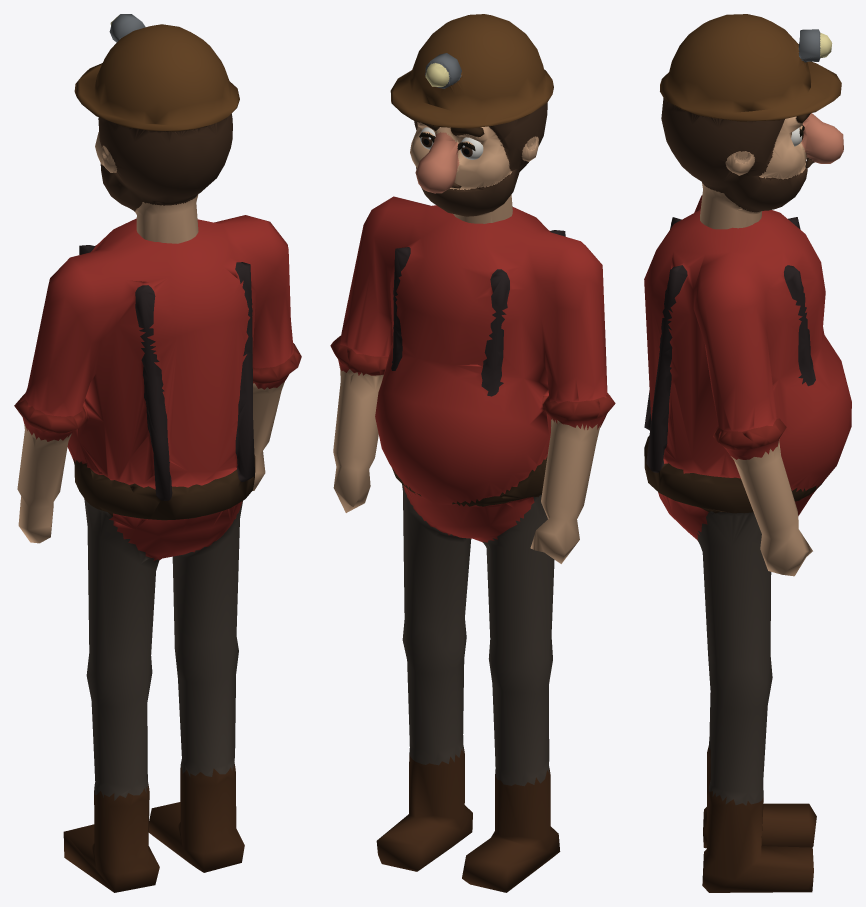
File: morten.glb
3 views of the same model, side by side, from view 1: azimuth 30°, elevation 25°; view 2: azimuth 150°, elevation 25°; view 3: azimuth 270°, elevation 25° (orthographic).
Parts seen in each view (by area): view 1: body_lod0, head_lod0; view 2: body_lod0, head_lod0; view 3: body_lod0, head_lod0.
Boxes of the visible parts, x1,y1,x2,y2 form: body_lod0: (14, 215, 301, 892); head_lod0: (74, 14, 239, 243); body_lod0: (330, 196, 615, 892); head_lod0: (390, 14, 553, 223); body_lod0: (644, 195, 851, 892); head_lod0: (660, 14, 843, 229).
Size of what is drawn, in the model's own units: 0.6703 by 1.96 by 0.4353.
